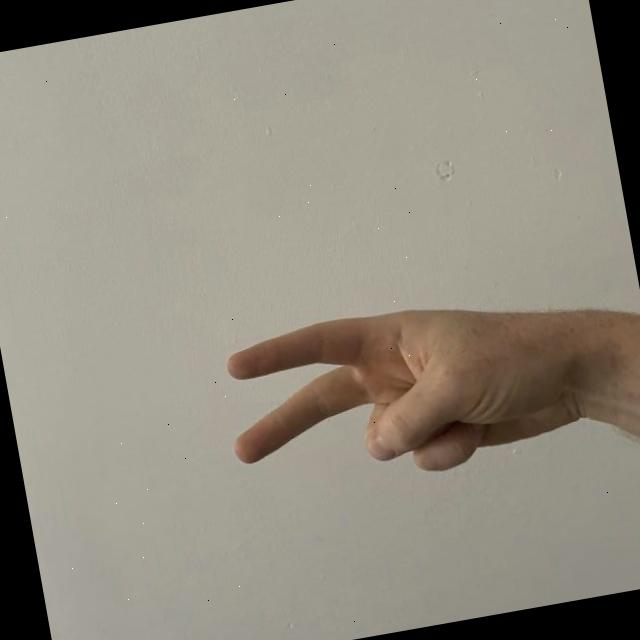scissors: (213, 266, 632, 510)
